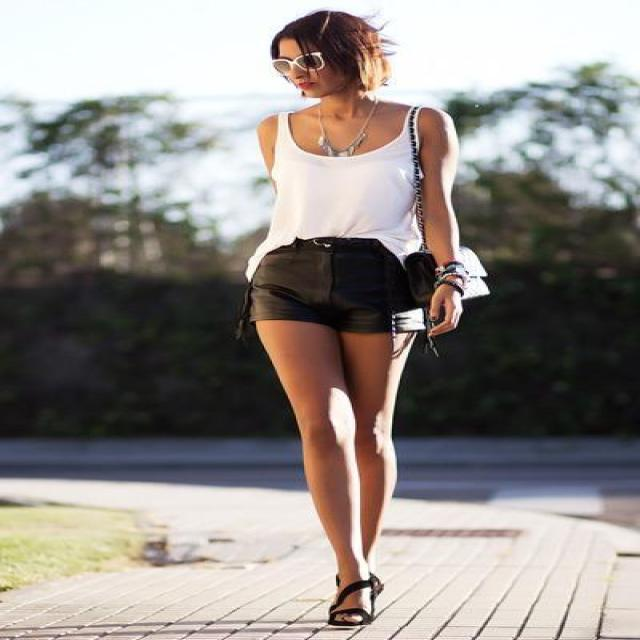shirt: (245, 115, 422, 281)
shoe: (328, 576, 382, 625)
shorts: (230, 237, 462, 338)
